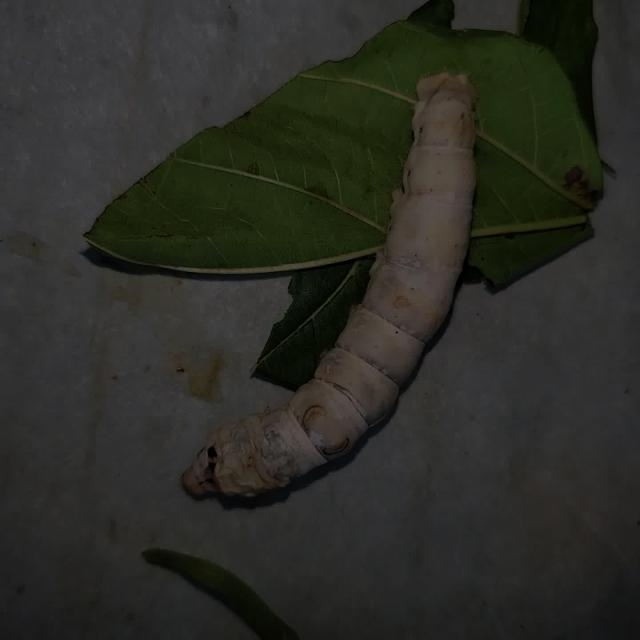Grasserie: (165, 40, 516, 522)
